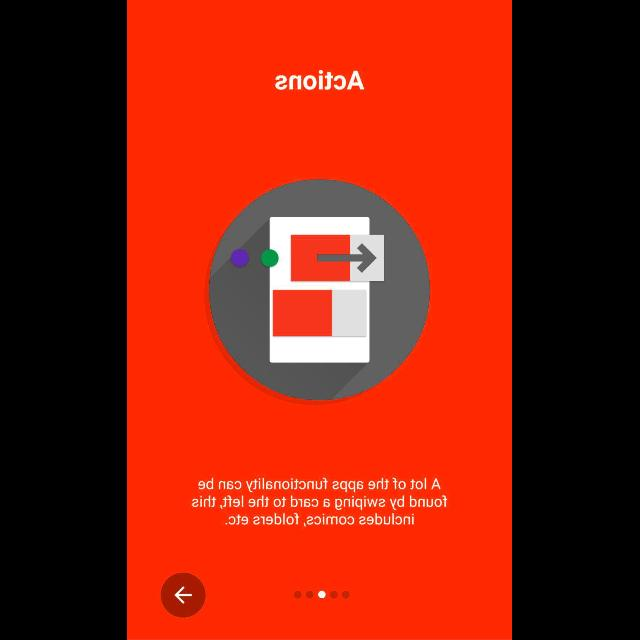button: (162, 572, 206, 618)
image: (210, 180, 430, 400)
pageindicator: (294, 590, 351, 600)
text: (192, 478, 448, 526), (276, 70, 364, 90)
